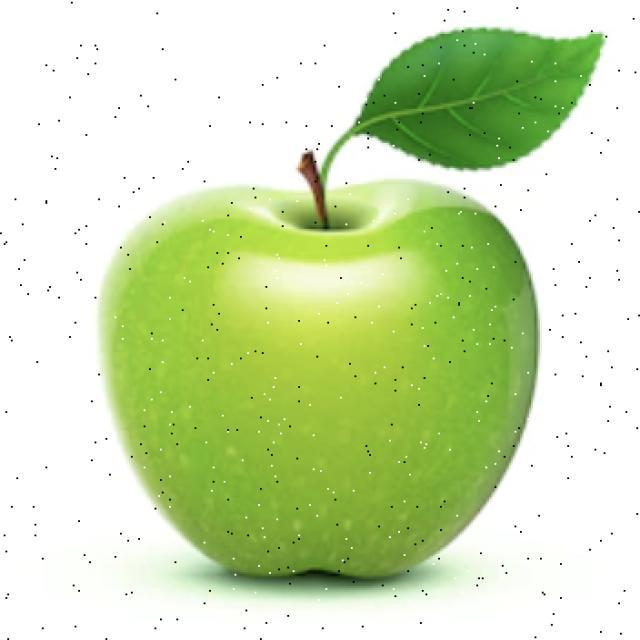Fresh Apple: (97, 177, 533, 590)
